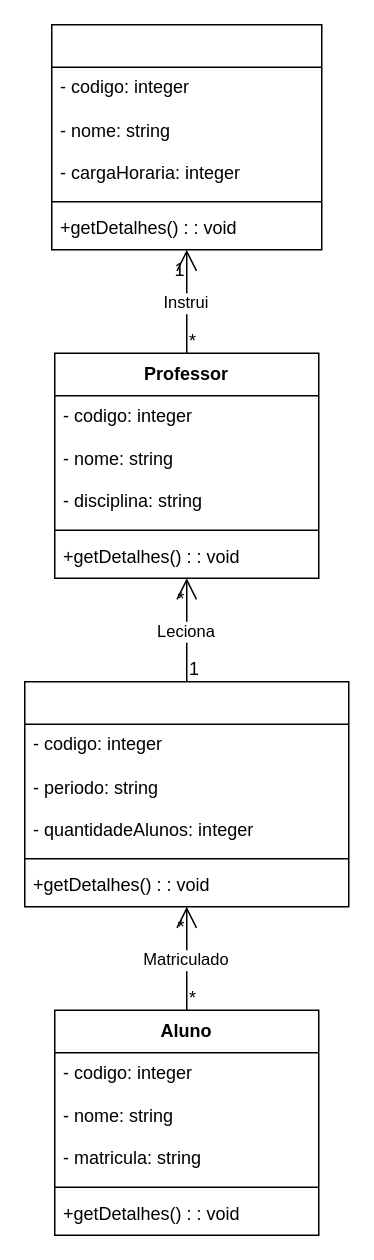
Some shapes in this 374 by 1260 pixel diagram are drawn without their labels. Here are the shapes that lost their labels. From the top down, the box of each, then its label:
(50, 23, 322, 250): Curso
(23, 680, 349, 907): Turma
